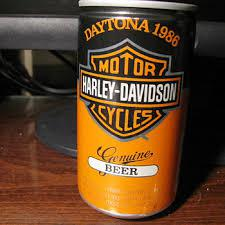beer: (76, 1, 197, 219)
